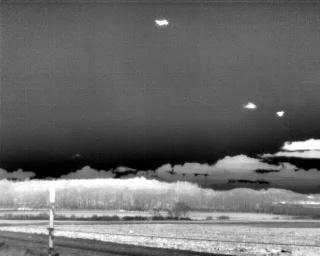DRONE: (152, 15, 172, 30)
